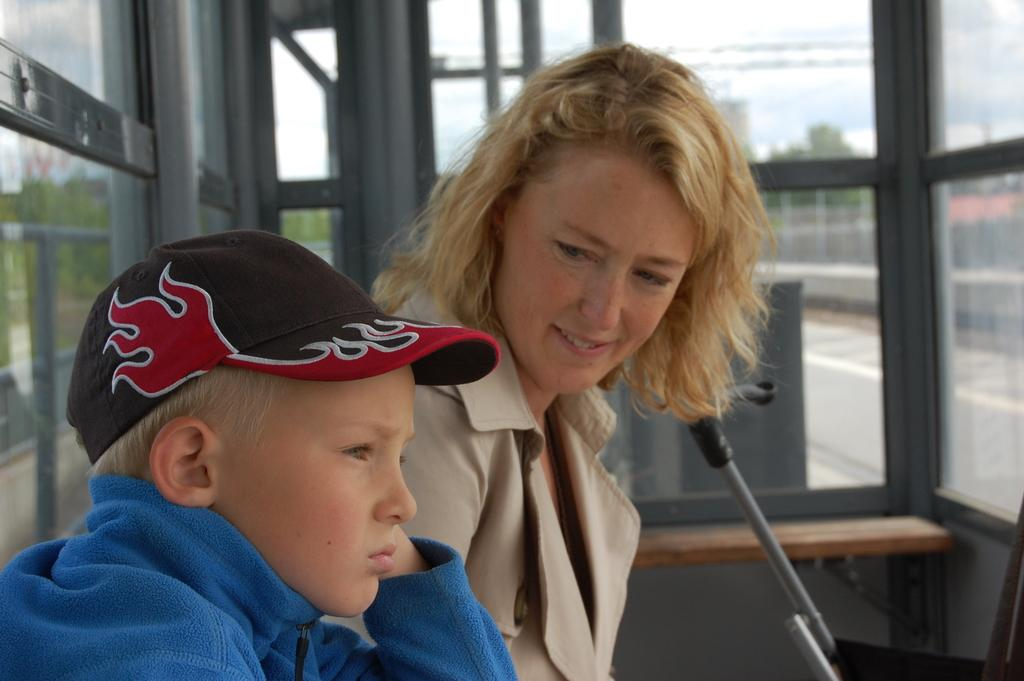Hat: (58, 229, 492, 464)
